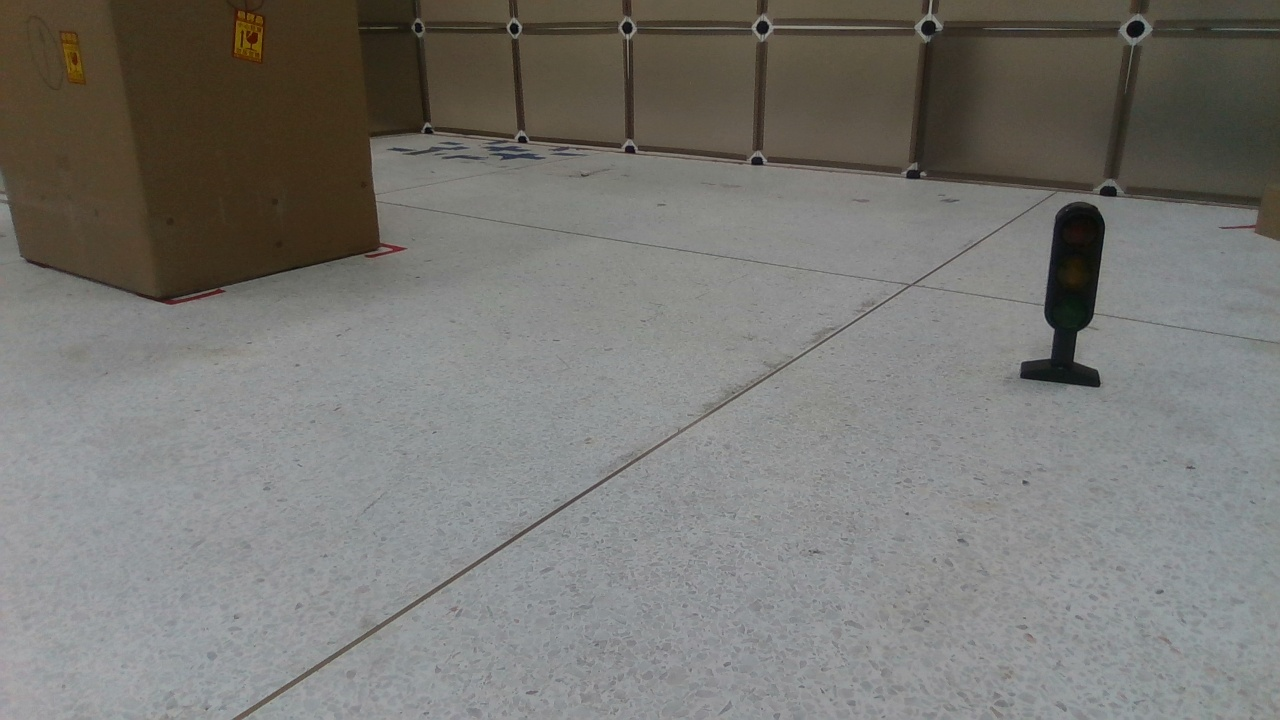Dim traffic light: (1022, 203, 1106, 391)
